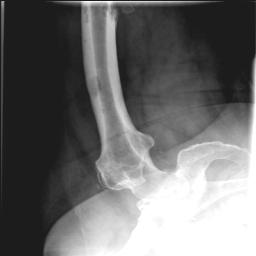cancer: (85, 71, 102, 95)
